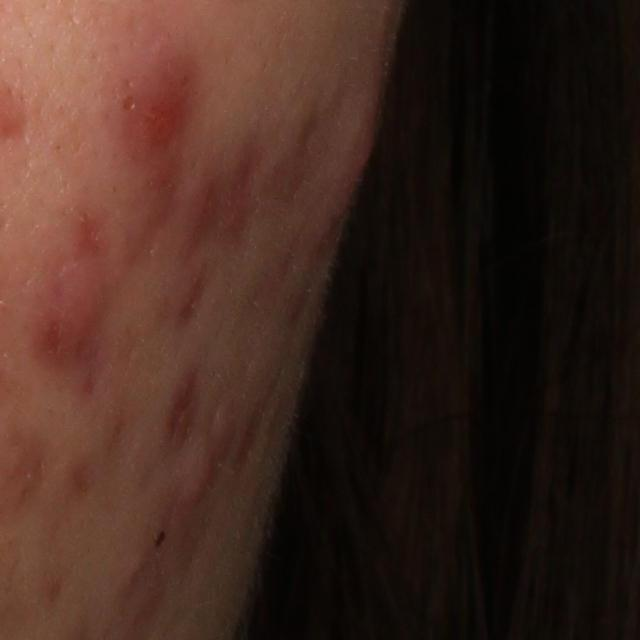nevus: (153, 527, 166, 552)
papule: (326, 89, 383, 215), (177, 444, 226, 507)
